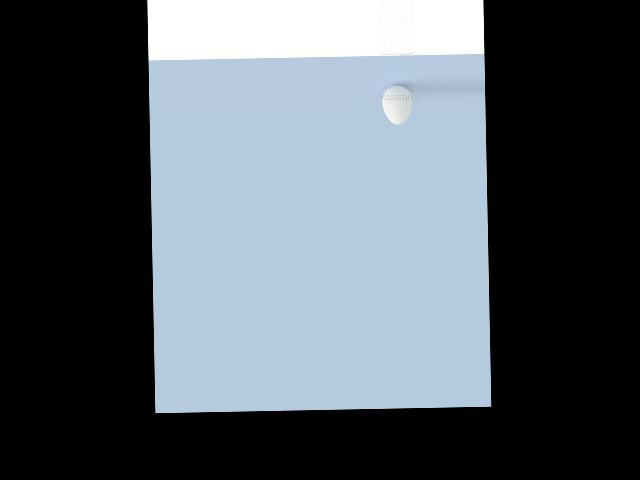egg: (381, 85, 412, 124)
